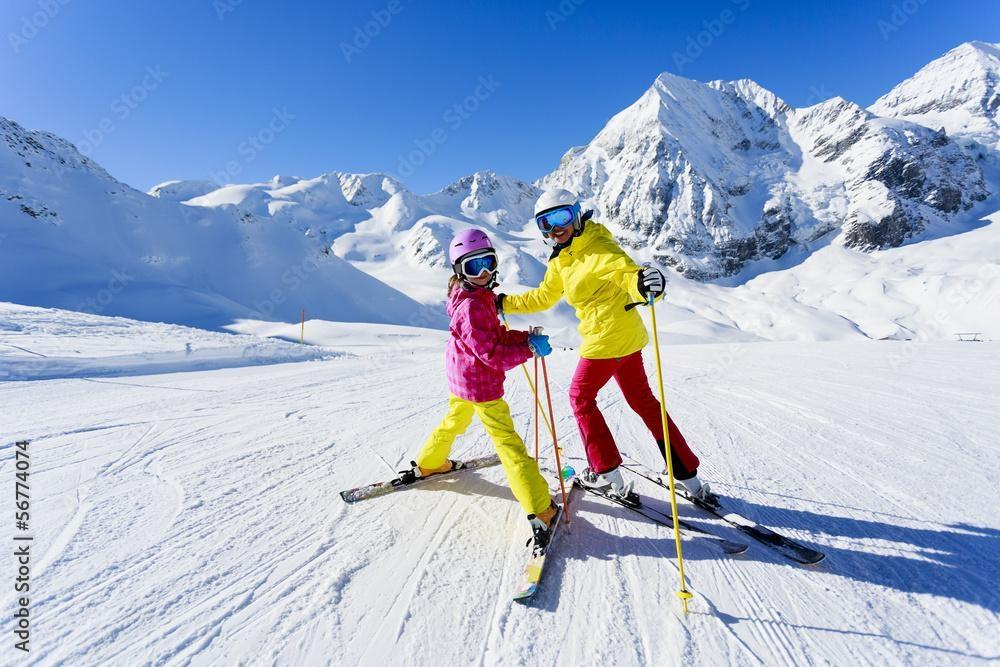Skis: (492, 453, 614, 619)
